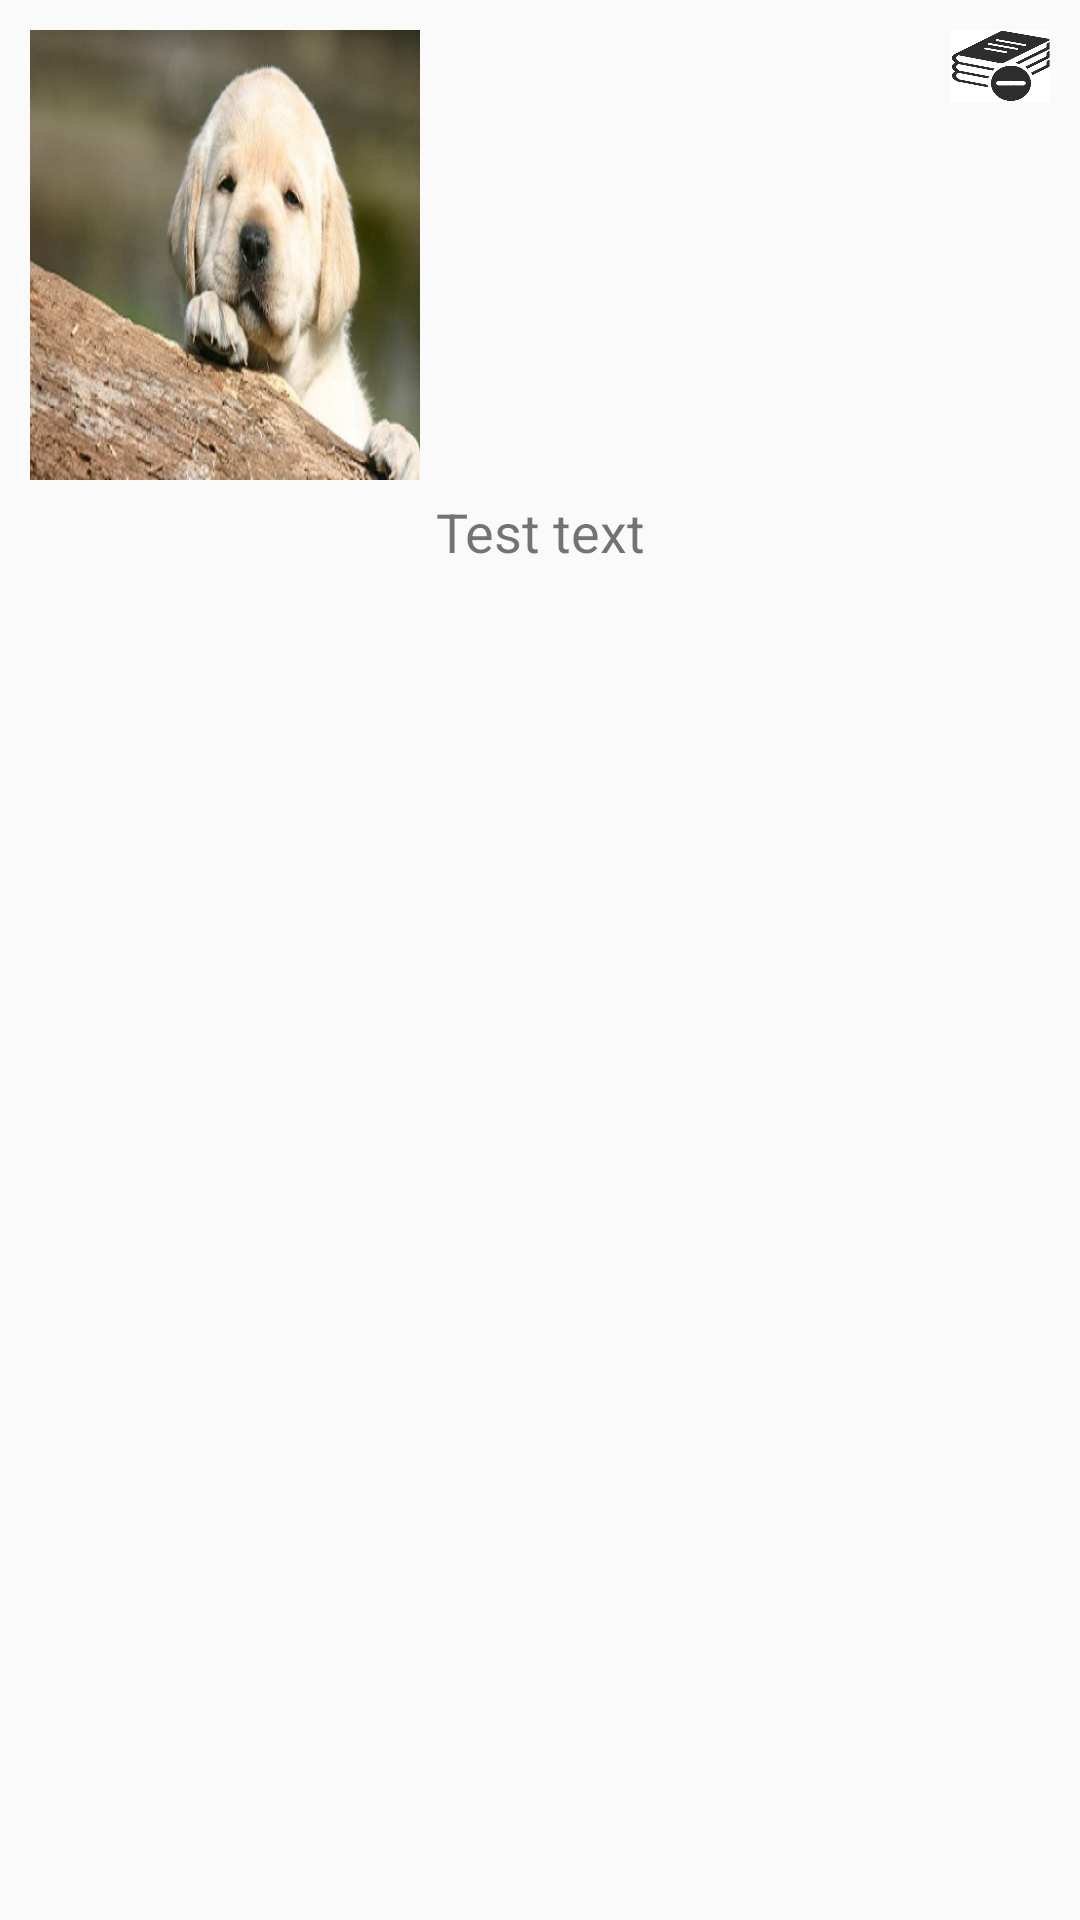

Point at icon controls on the screen. Image size 1080w x 1920h, points as point (x, y).
book remove: point (1001, 66)
